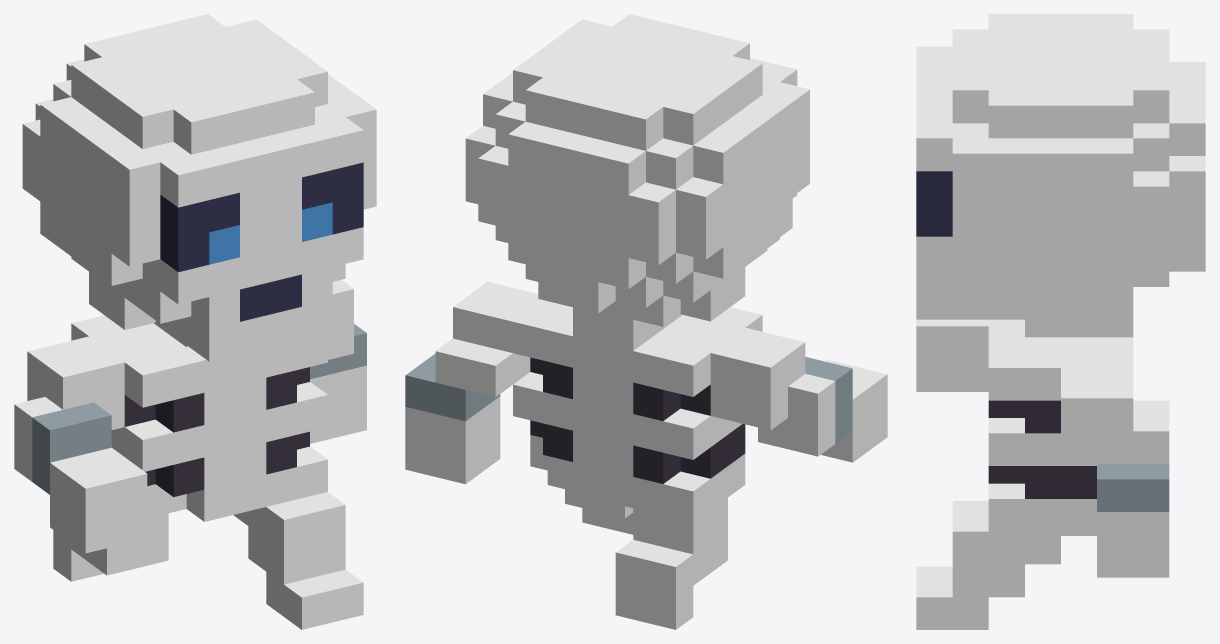
File: Player-1-Step_L.obj
The picture shows the model from 3 angles, left to right: view 1: azimuth 30°, elevation 25°; view 2: azimuth 150°, elevation 25°; view 3: azimuth 270°, elevation 25°; orthographic projection. The views are drawn at different scales.
Parts seen in each view (by area): view 1: Step_L; view 2: Step_L; view 3: Step_L.
Part boxes in pixels (x1,y1,x2,y2): Step_L: (14,14,376,629); Step_L: (405,14,887,629); Step_L: (916,14,1205,629).
Bounding box in the file's own units: 1.2 × 1.6 × 0.8.
Materials: 1 (1 with a texture image).
